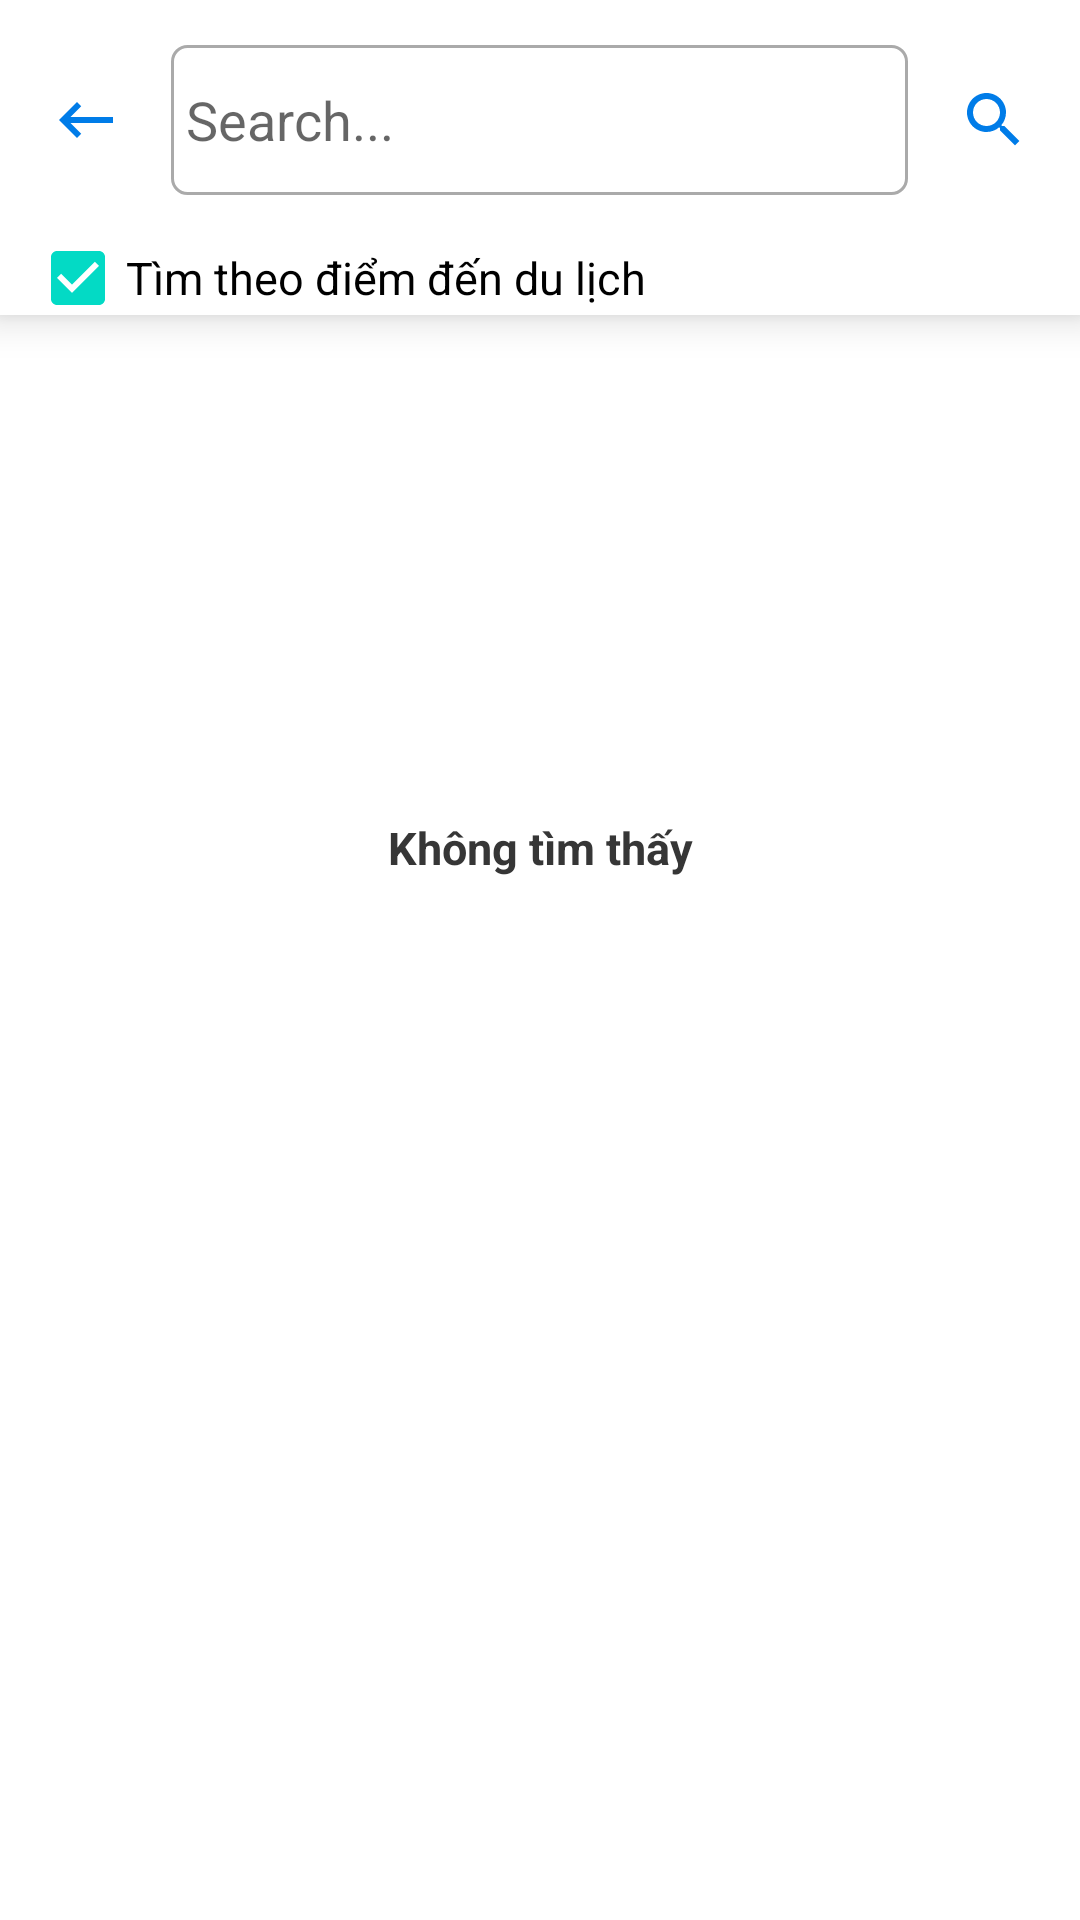

Point at icon controls on the screen. Image size 1080w x 1920h, points as [x,y].
keyboard backspace: [86,120]
